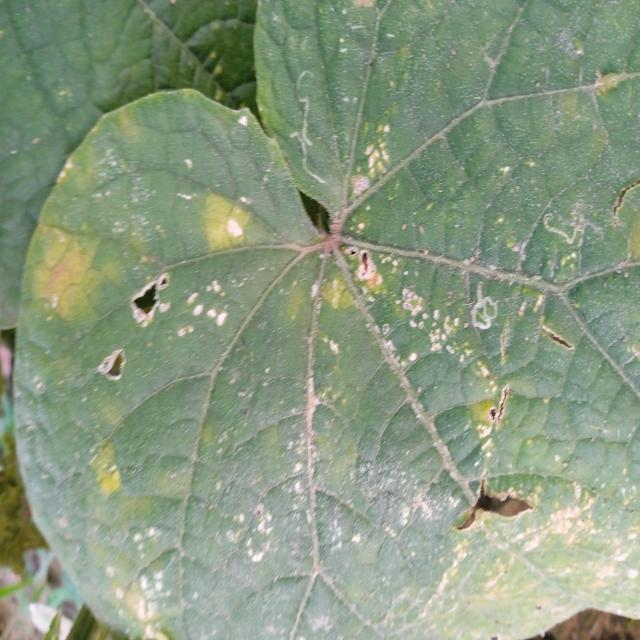cucumber_downy: (18, 141, 580, 633)
